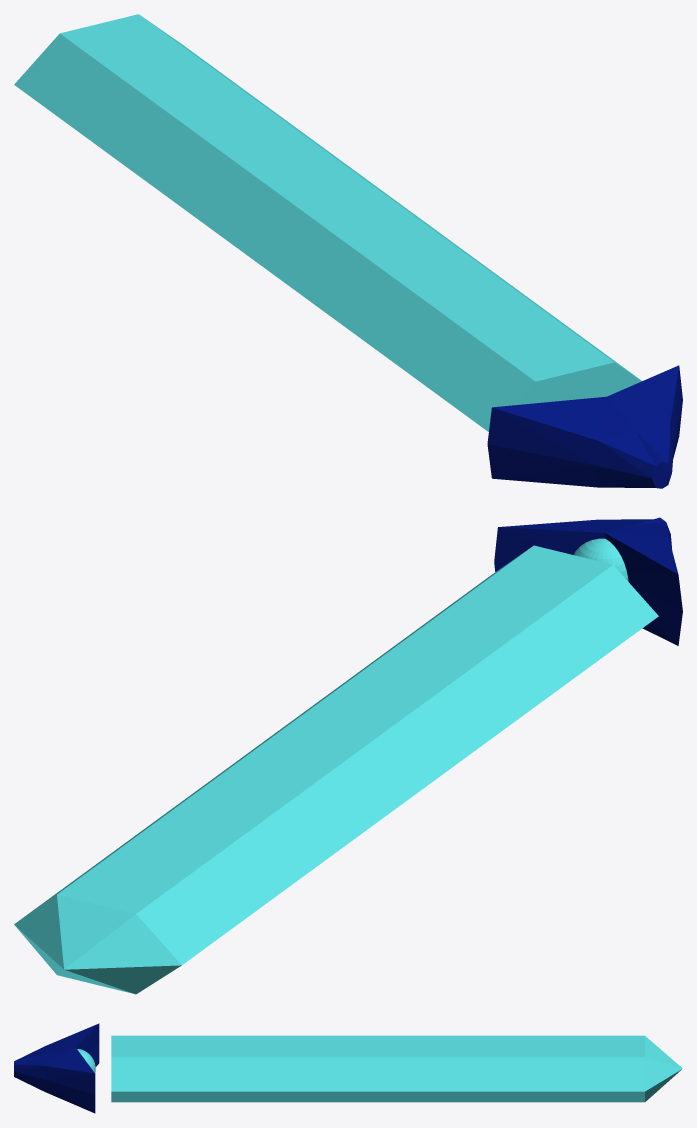
Rendered from sword.fbx.
3 views of the same model, one above another, from view 1: azimuth 30°, elevation 25°; view 2: azimuth 150°, elevation 25°; view 3: azimuth 270°, elevation 25° (orthographic). The views are drawn at different scales.
Parts seen in each view (by area): view 1: Cube; view 2: Cube; view 3: Cube.
Part boxes in pixels (left/top/right/bottom): Cube: left=14, top=14, right=682, bottom=488; Cube: left=14, top=517, right=682, bottom=994; Cube: left=14, top=1023, right=682, bottom=1113.
Bounding box in the file's own units: 0.9774 × 0.391 × 5.26.
